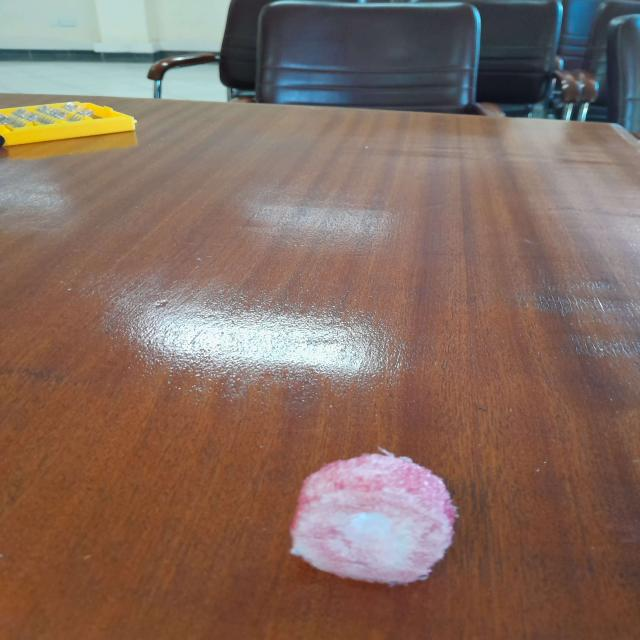wheel: (290, 454, 458, 584)
